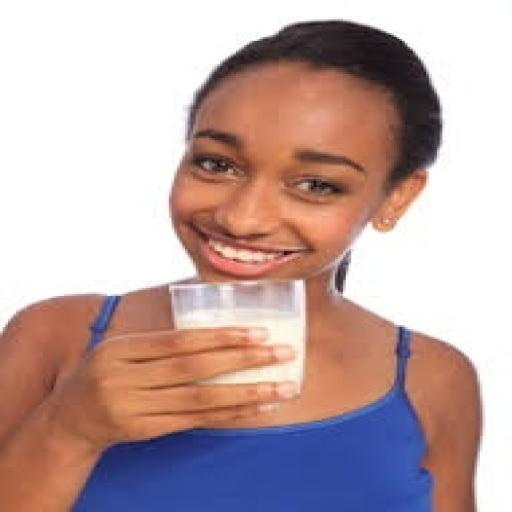drinking: (166, 276, 306, 411)
